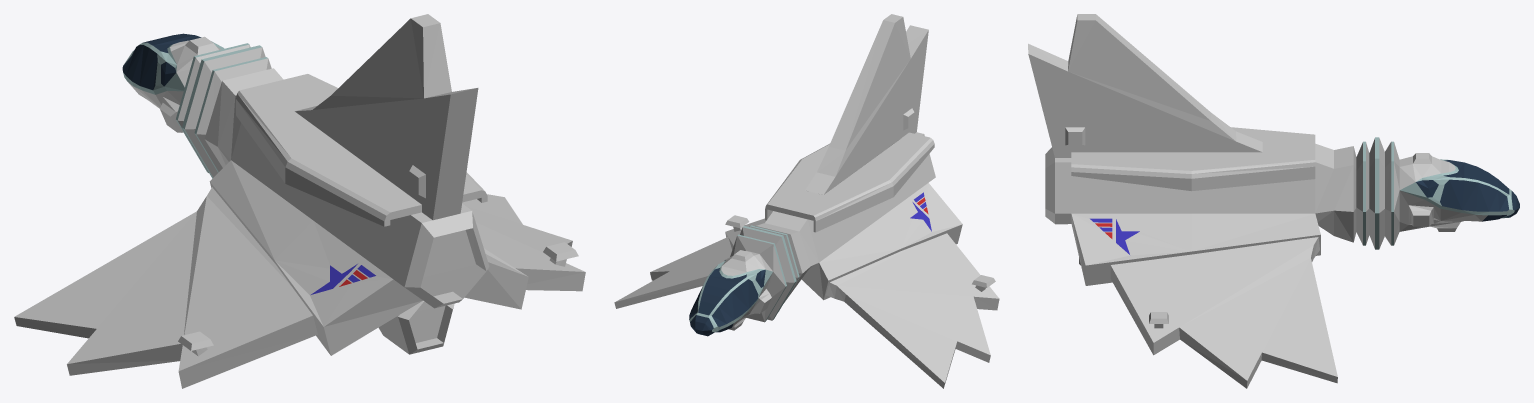
Rendered from pre_Juni_Defender.obj.
The picture shows the model from 3 angles, left to right: view 1: azimuth 30°, elevation 25°; view 2: azimuth 150°, elevation 25°; view 3: azimuth 270°, elevation 25°; orthographic projection. The views are drawn at different scales.
Parts seen in each view (by area): view 1: Li_elite, Li_port_wing, Li_Spoiler, Li_Engine01, Li_star_wing, Li_Engine02, Li_glass; view 2: Li_elite, Li_port_wing, Li_Spoiler, Li_star_wing, Li_glass; view 3: Li_elite, Li_star_wing, Li_Spoiler, Li_glass, Li_Engine01.
Part boxes in pixels (x1,y1,x2,y2): Li_elite: (123,36,528,355); Li_port_wing: (14,187,317,388); Li_Spoiler: (295,14,478,220); Li_Engine01: (393,203,489,308); Li_star_wing: (462,194,585,291); Li_Engine02: (378,300,454,354); Li_glass: (122,33,201,90); Li_elite: (689,132,962,332); Li_port_wing: (826,233,999,388); Li_Spoiler: (805,14,928,194); Li_star_wing: (614,215,766,308); Li_glass: (689,260,765,336); Li_elite: (1071,127,1514,285); Li_star_wing: (1110,237,1337,388); Li_Spoiler: (1028,14,1262,157); Li_glass: (1416,160,1519,221); Li_Engine01: (1045,147,1071,224).
Bounding box in the file's own units: 13.91 × 9.78 × 15.59.
